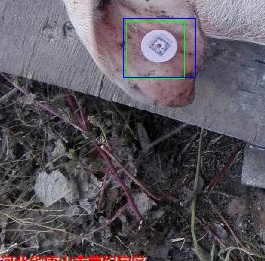text: (126, 21, 184, 78)
